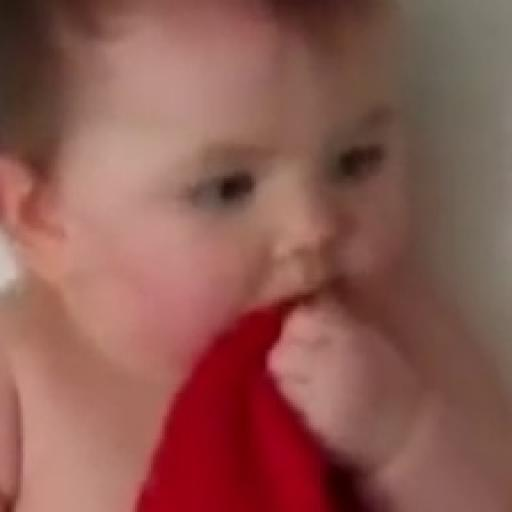Autism: (9, 16, 512, 409)
